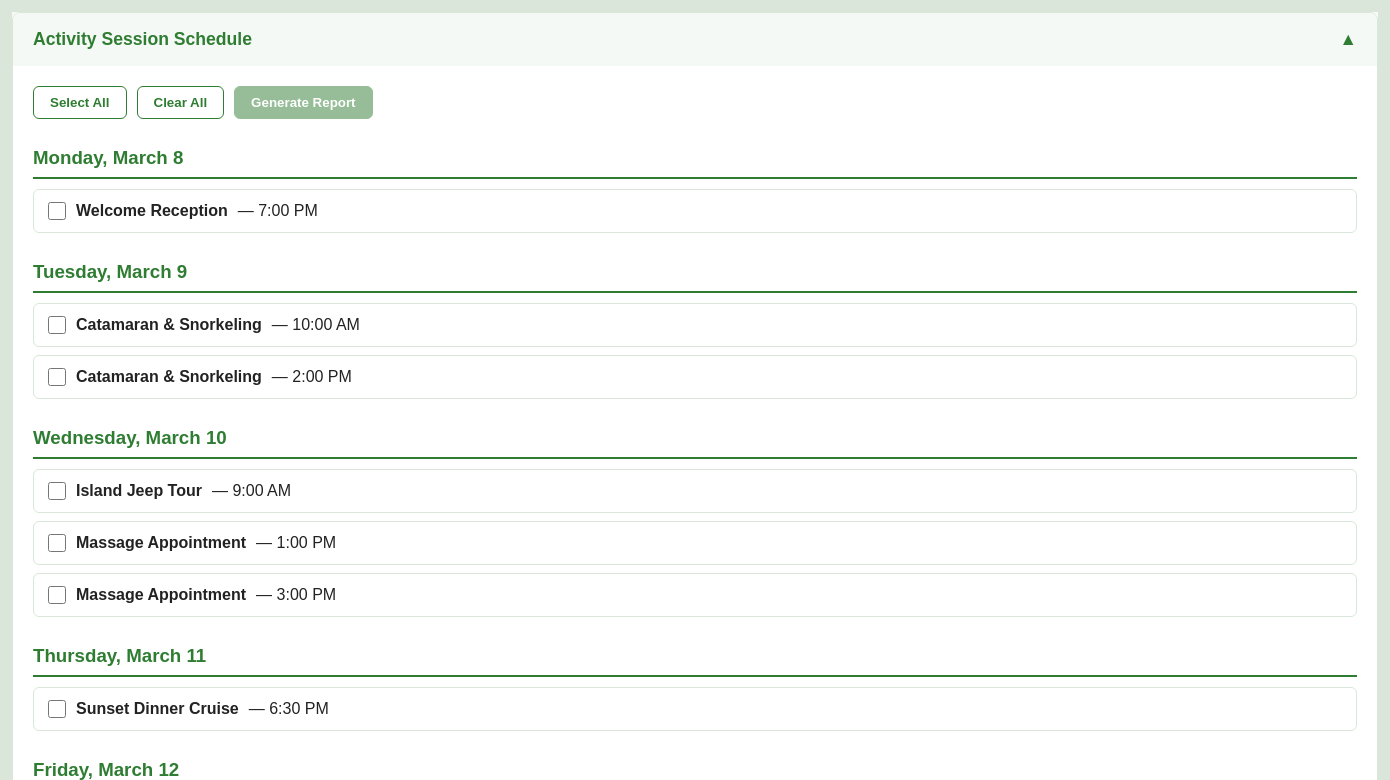
Test: ActivitySessionReportBuilder › clears all selected sessions when Clear All is clicked
Click the button "Select All" at (80, 102), box [33,86,126,119]
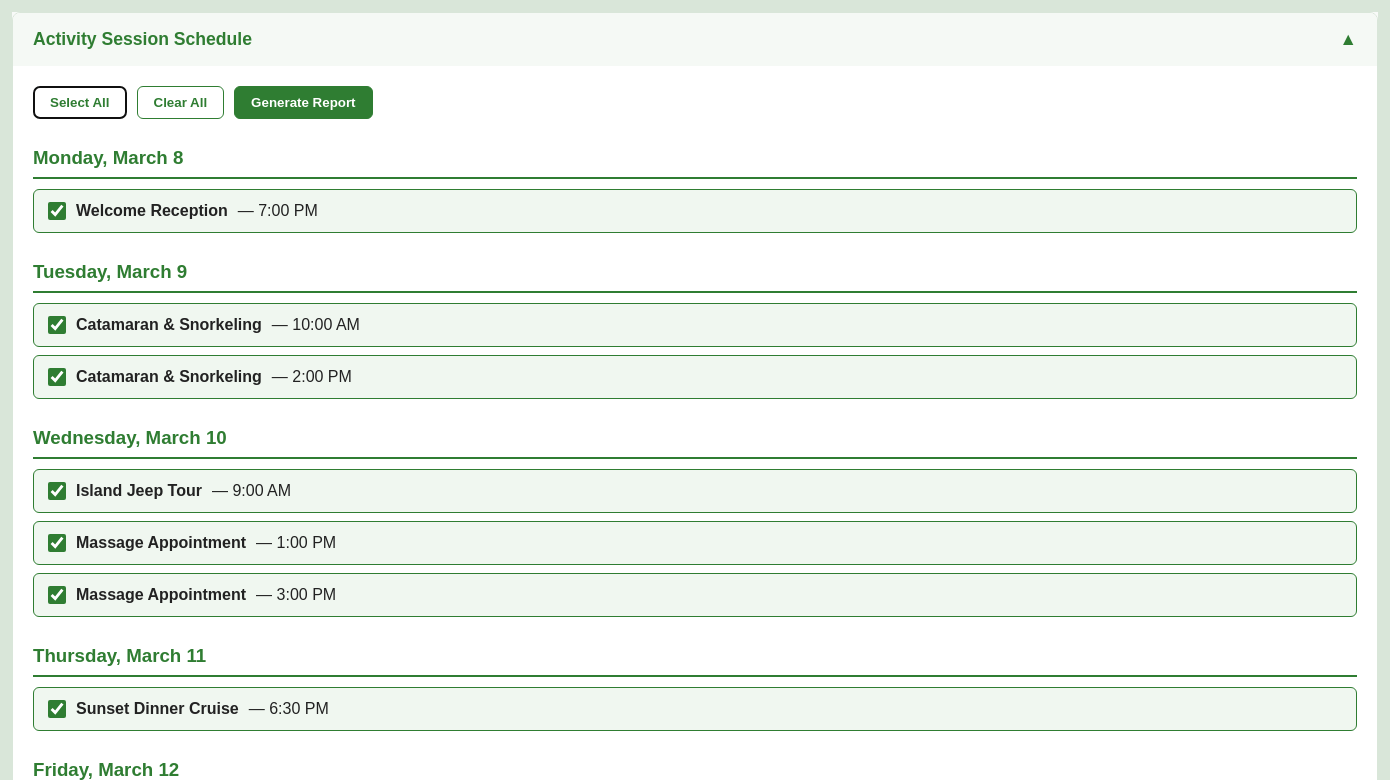
Check: the checkbox labelled "Welcome Reception — 7:00 PM" is checked, box [48,202,66,220]
Check: the checkbox labelled "Catamaran & Snorkeling — 10:00 AM" is checked, box [48,316,66,334]
Check: the checkbox labelled "Catamaran & Snorkeling — 2:00 PM" is checked, box [48,368,66,386]
Click the button "Clear All" at (180, 102), box [136,86,224,119]
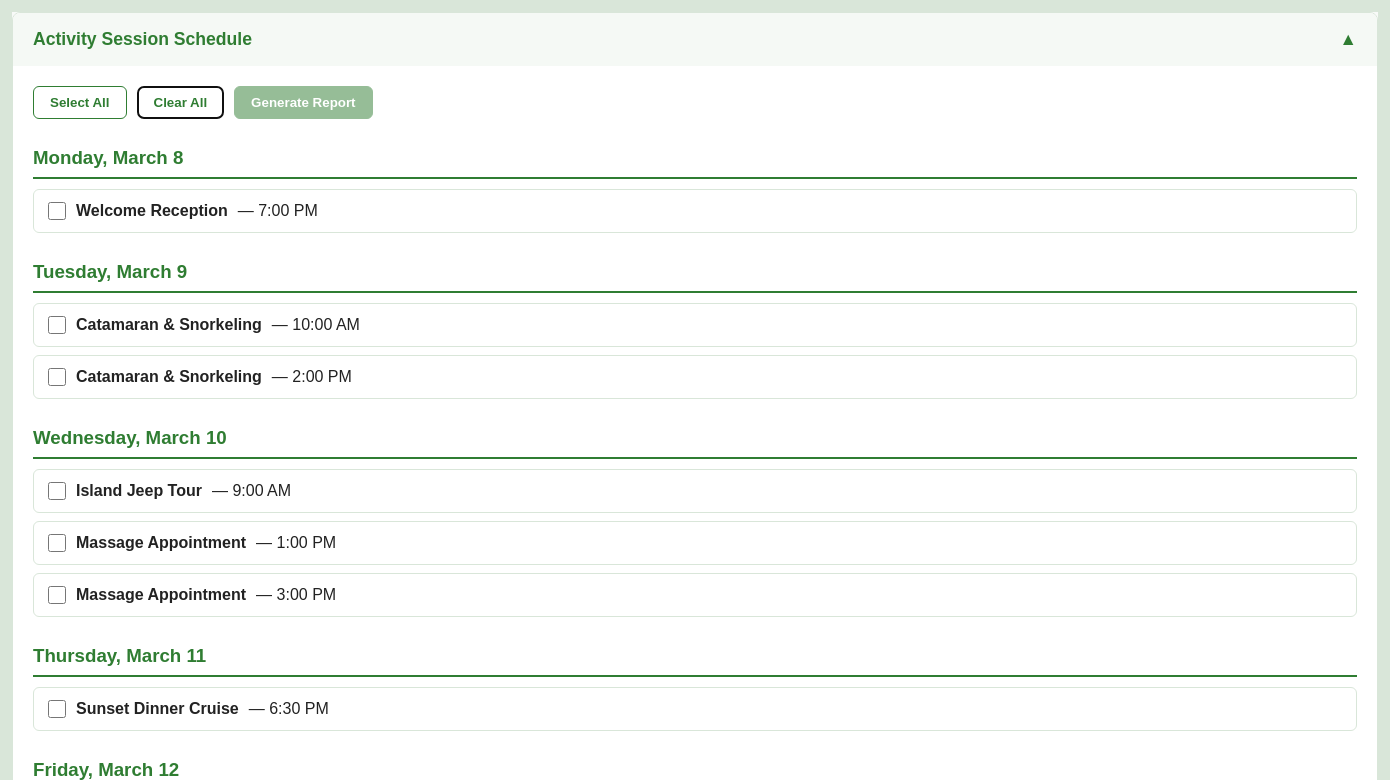
Check: the checkbox labelled "Welcome Reception — 7:00 PM" is not checked, box [48,202,66,220]
Check: the checkbox labelled "Catamaran & Snorkeling — 10:00 AM" is not checked, box [48,316,66,334]
Check: the checkbox labelled "Catamaran & Snorkeling — 2:00 PM" is not checked, box [48,368,66,386]
